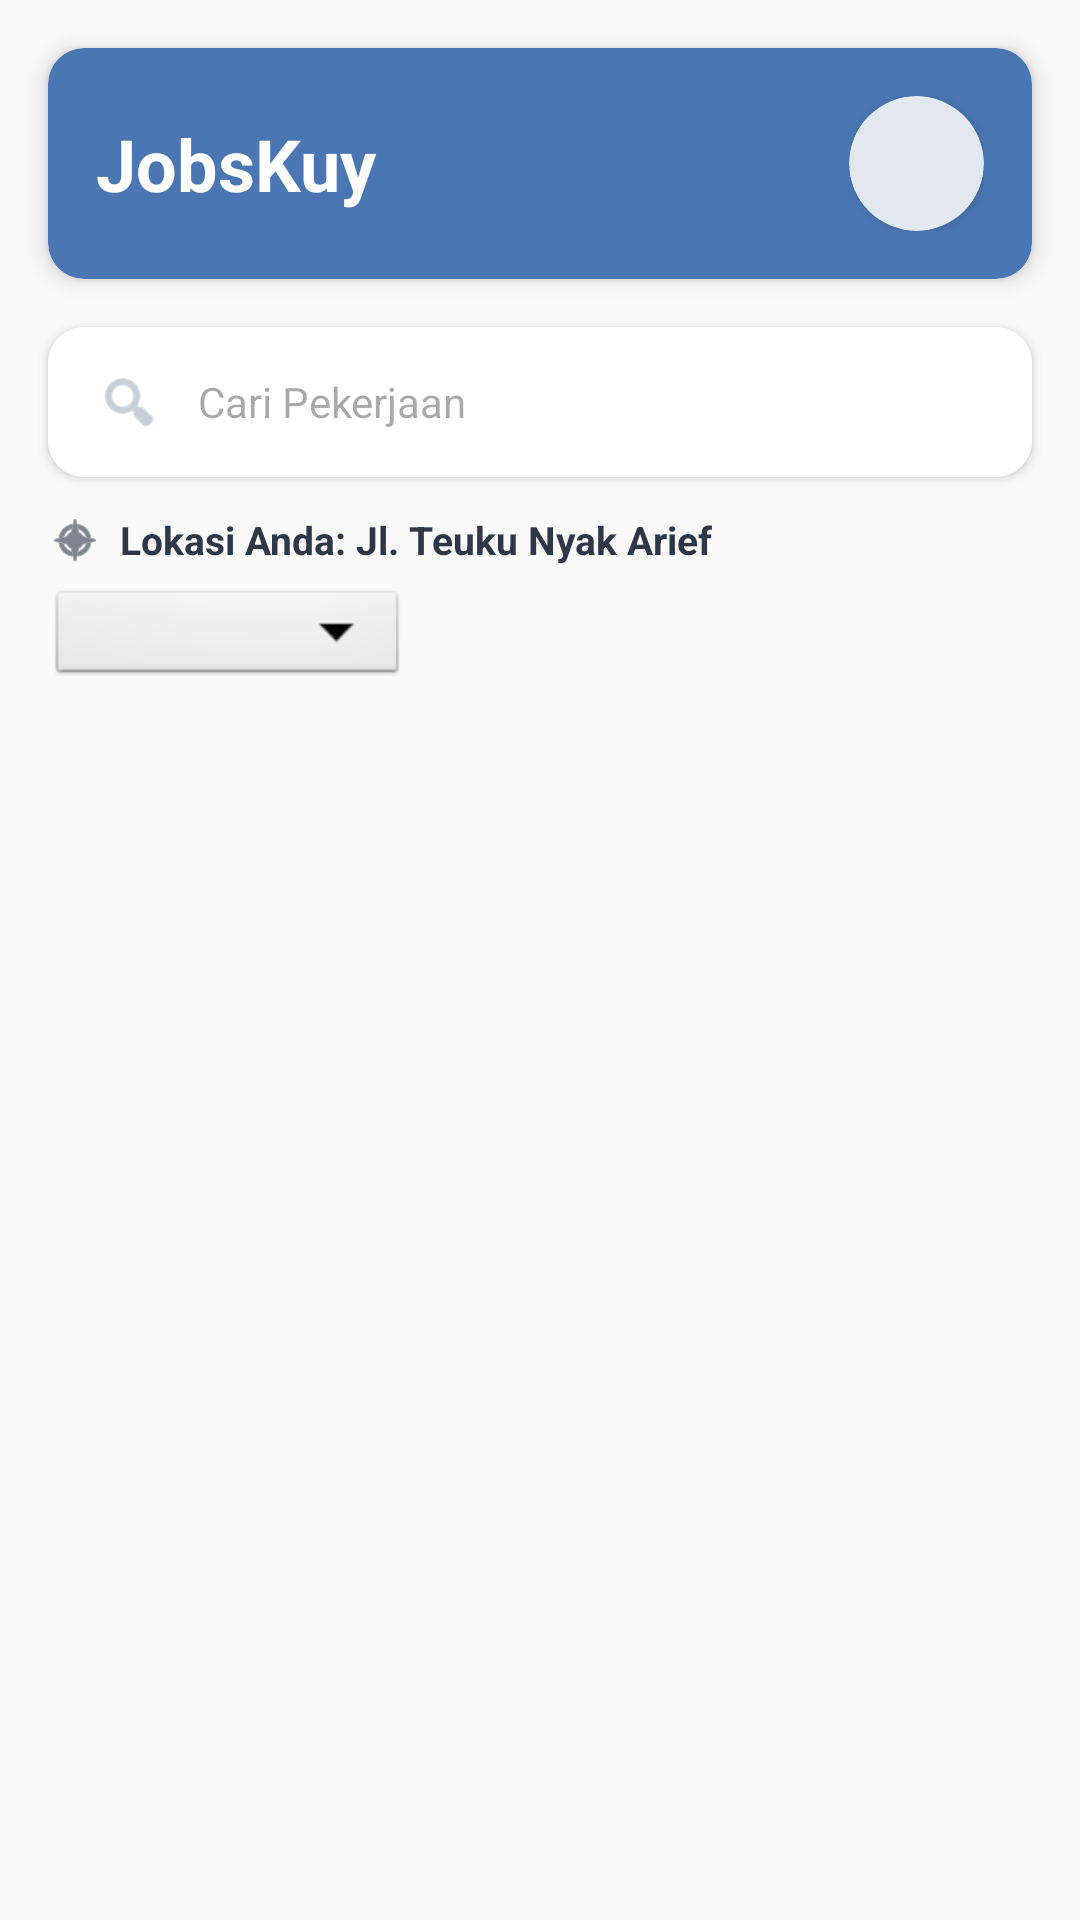

Screen size 1080 x 1920. Icon name, then its center in pixels as (x=x, y=y):
compass: (x=75, y=540)
search: (x=129, y=402)
